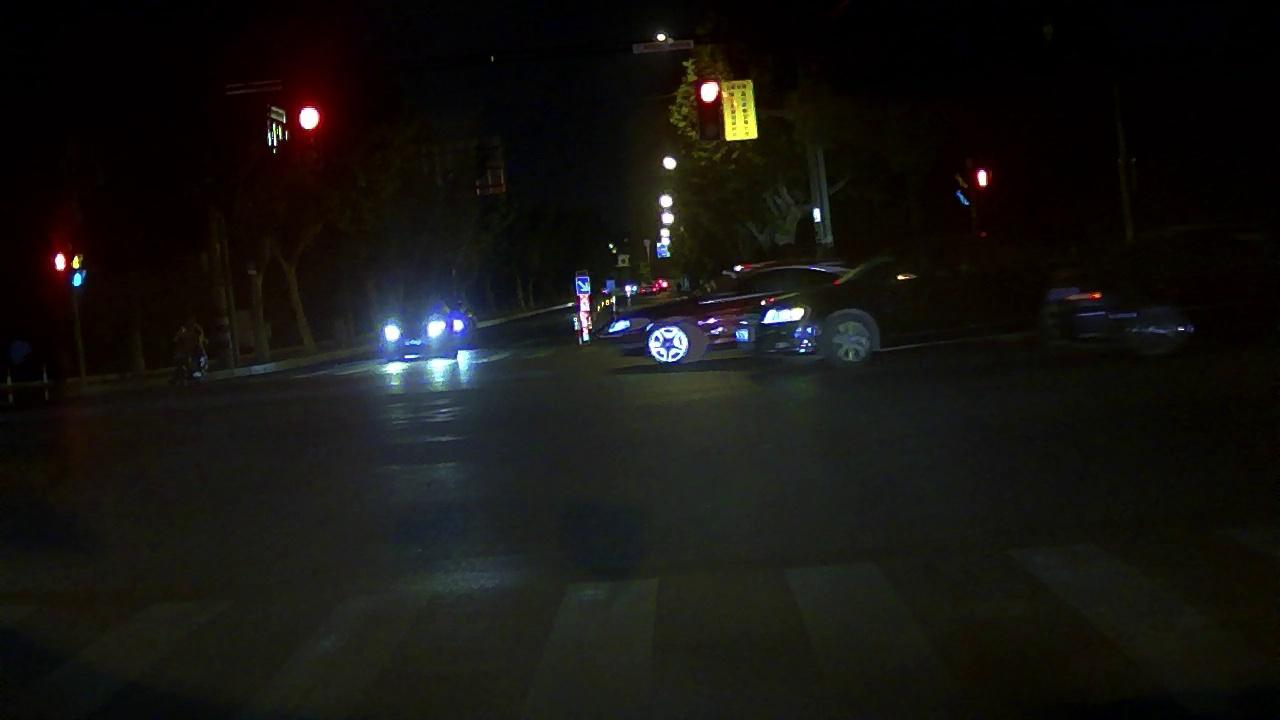traffic_light: (692, 72, 727, 108), (293, 100, 327, 135)
